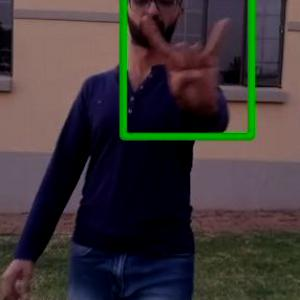takeoff-hand: (136, 1, 237, 115)
